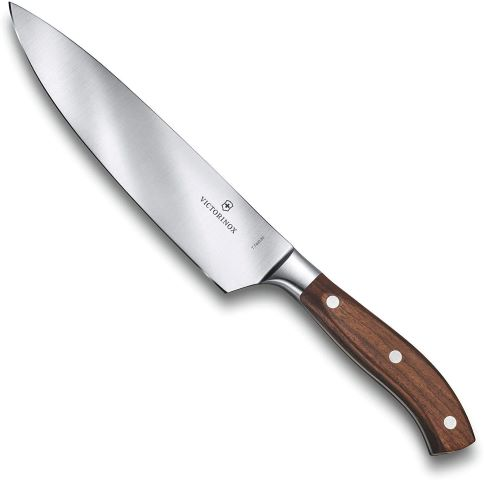knife: (6, 1, 475, 464)
